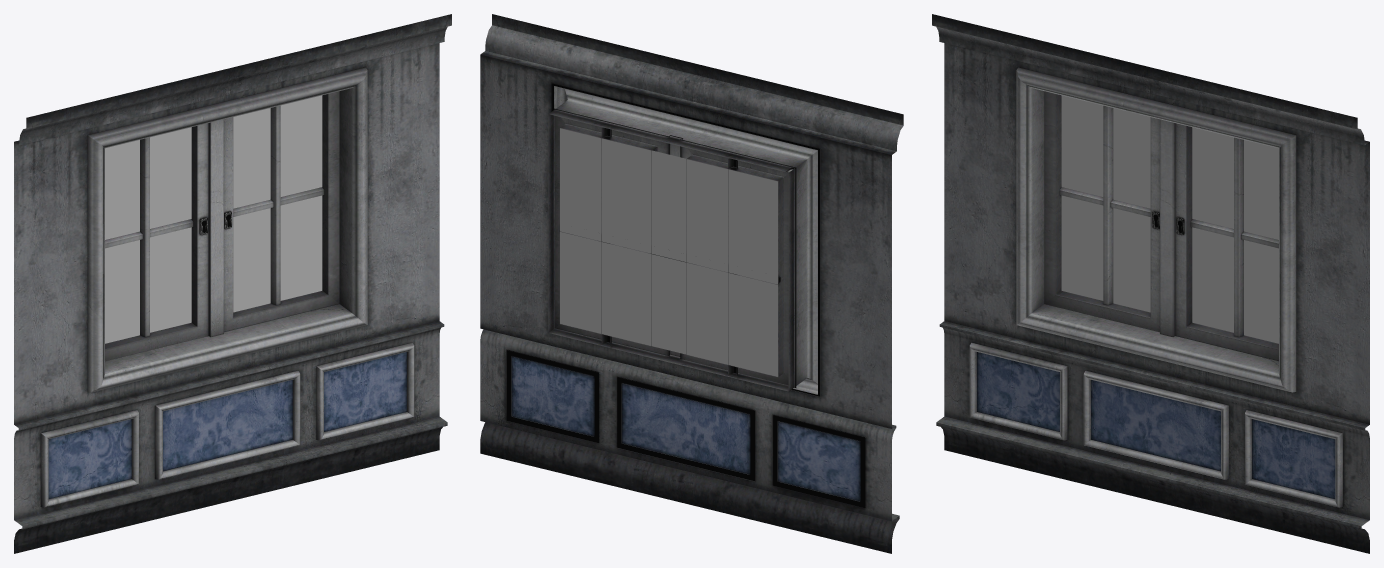
File: window_yellow_blue.dae
The picture shows the model from 3 angles, left to right: view 1: azimuth 30°, elevation 25°; view 2: azimuth 150°, elevation 25°; view 3: azimuth 330°, elevation 25°; orthographic projection. The views are drawn at different scales.
Visible parts, largest first — view 1: mansionbase_wall_window1, mansionbase_wall_windowglass; view 2: mansionbase_wall_window1, mansionbase_wall_windowglass; view 3: mansionbase_wall_window1, mansionbase_wall_windowglass.
Boxes of the visible parts, x1,y1,x2,y2 form: mansionbase_wall_window1: [14, 14, 451, 553]; mansionbase_wall_windowglass: [105, 95, 322, 343]; mansionbase_wall_window1: [480, 14, 903, 553]; mansionbase_wall_windowglass: [560, 128, 777, 376]; mansionbase_wall_window1: [932, 14, 1369, 553]; mansionbase_wall_windowglass: [1061, 95, 1278, 343].
Bounding box in the file's own units: 4 × 4 × 0.4944.
